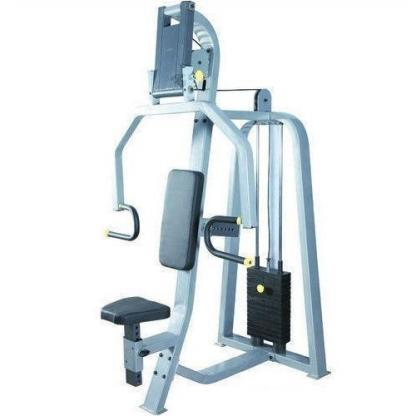Chest Press machine: (86, 0, 337, 416)
